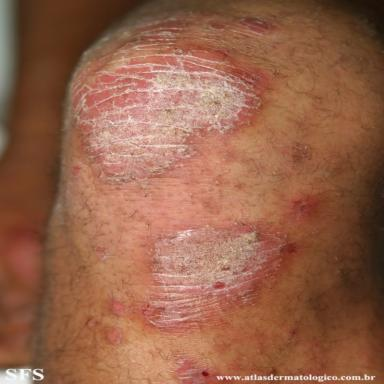Psoriasis: (70, 10, 276, 183), (143, 225, 297, 328), (175, 359, 221, 384), (290, 190, 323, 224), (101, 328, 122, 345), (86, 318, 102, 330), (111, 301, 125, 311)
